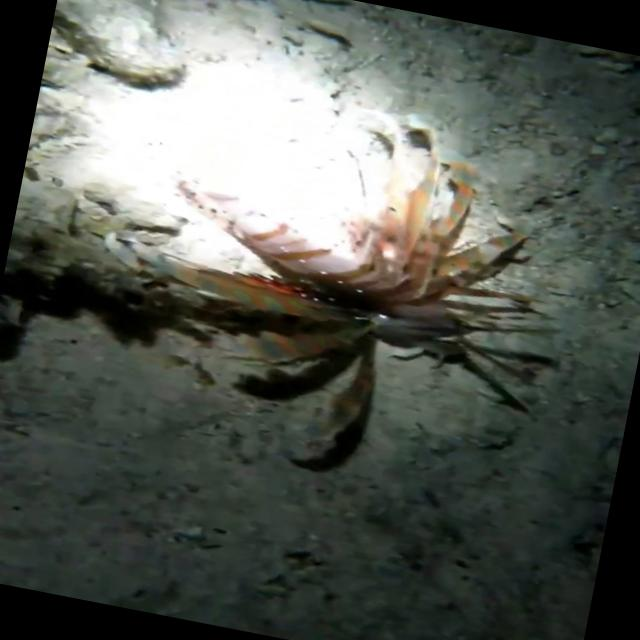Aslan Baligi: (18, 48, 638, 522)
